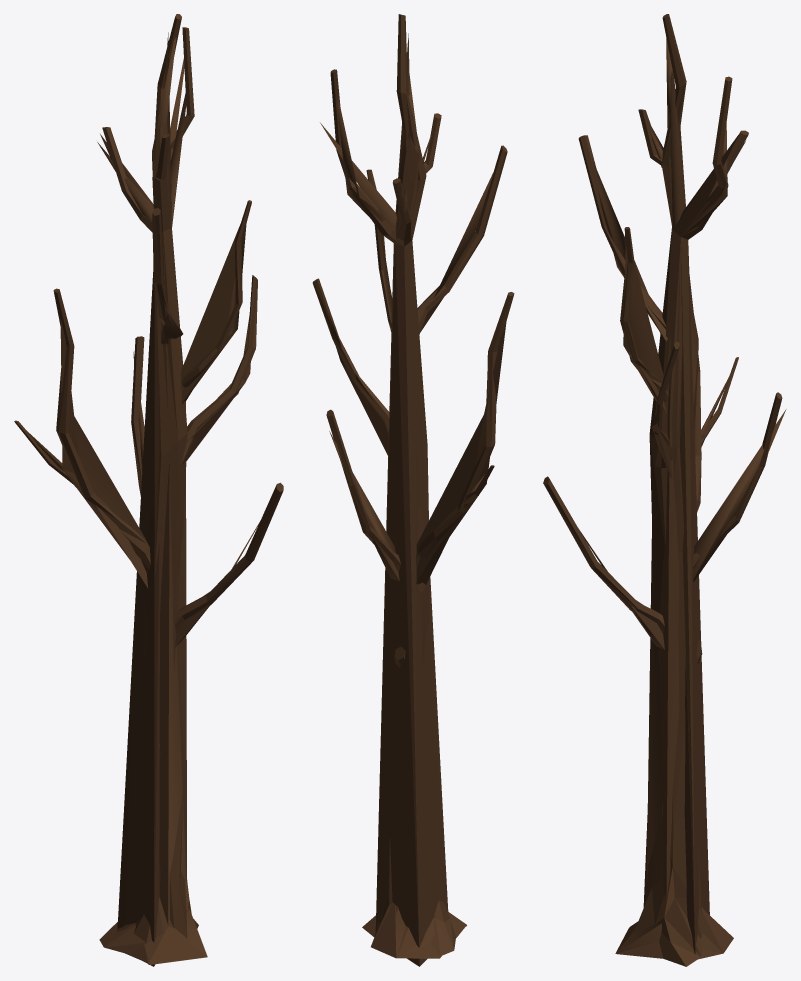
The model's file is TreeOne.fbx.
The picture shows the model from 3 angles, left to right: view 1: azimuth 30°, elevation 25°; view 2: azimuth 150°, elevation 25°; view 3: azimuth 270°, elevation 25°; orthographic projection. The views are drawn at different scales.
Visible parts, largest first — view 1: tree_poplar_dead_a__10_, tree_poplar_dead_a__10_.001, tree_poplar_dead_a__10_.002; view 2: tree_poplar_dead_a__10_.002, tree_poplar_dead_a__10_, tree_poplar_dead_a__10_.001; view 3: tree_poplar_dead_a__10_, tree_poplar_dead_a__10_.001, tree_poplar_dead_a__10_.002.
Part boxes in pixels (x1,y1,x2,y2): tree_poplar_dead_a__10_: (14, 14, 283, 964); tree_poplar_dead_a__10_.001: (26, 37, 262, 963); tree_poplar_dead_a__10_.002: (97, 32, 186, 966); tree_poplar_dead_a__10_.002: (320, 33, 448, 966); tree_poplar_dead_a__10_: (312, 14, 514, 958); tree_poplar_dead_a__10_.001: (328, 52, 506, 958); tree_poplar_dead_a__10_: (543, 14, 782, 966); tree_poplar_dead_a__10_.001: (578, 38, 786, 959); tree_poplar_dead_a__10_.002: (643, 70, 745, 954).
Size of the model in its own units: 149 by 628 by 146.
